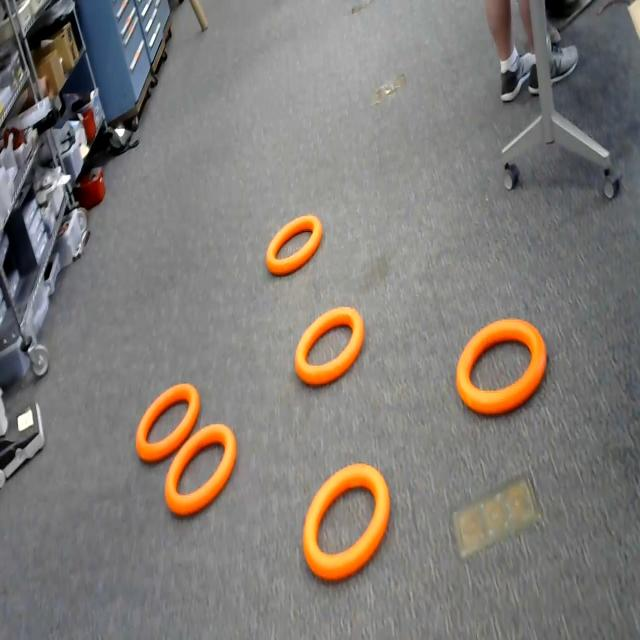note: (300, 458, 396, 598), (455, 313, 551, 422), (295, 303, 371, 397), (167, 428, 240, 520), (135, 382, 201, 462), (262, 208, 324, 282)
